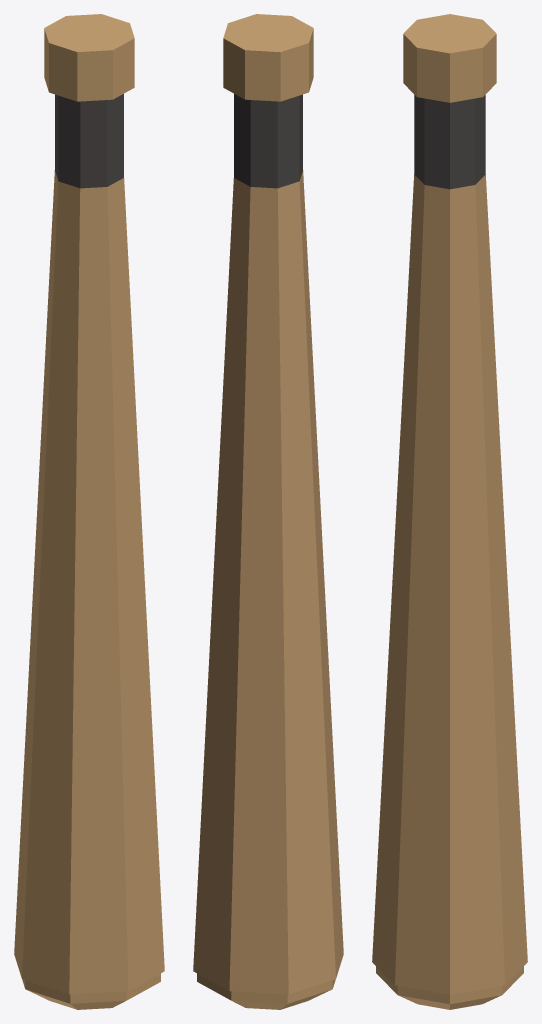
Rendered from bat.glb.
3 views of the same model, side by side, from view 1: azimuth 30°, elevation 25°; view 2: azimuth 150°, elevation 25°; view 3: azimuth 270°, elevation 25° (orthographic).
Visible parts, largest first — view 1: bat; view 2: bat; view 3: bat.
Part boxes in pixels (x1,y1,x2,y2): bat: (14, 14, 164, 1009); bat: (193, 14, 343, 1009); bat: (372, 14, 527, 1009).
Bounding box in the file's own units: 0.1 × 0.6825 × 0.1.
